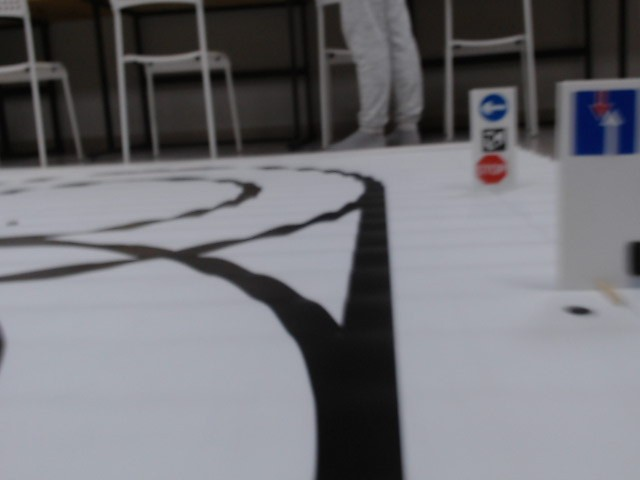priority_movement: (570, 88, 640, 156)
